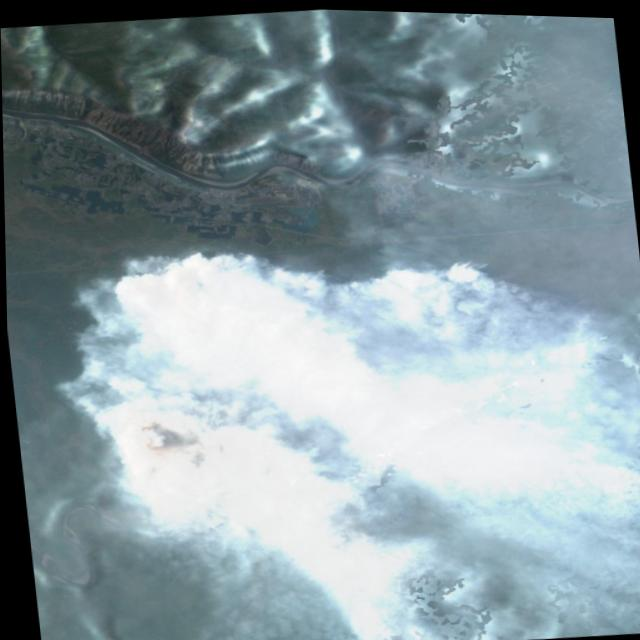fire: (91, 208, 623, 507)
